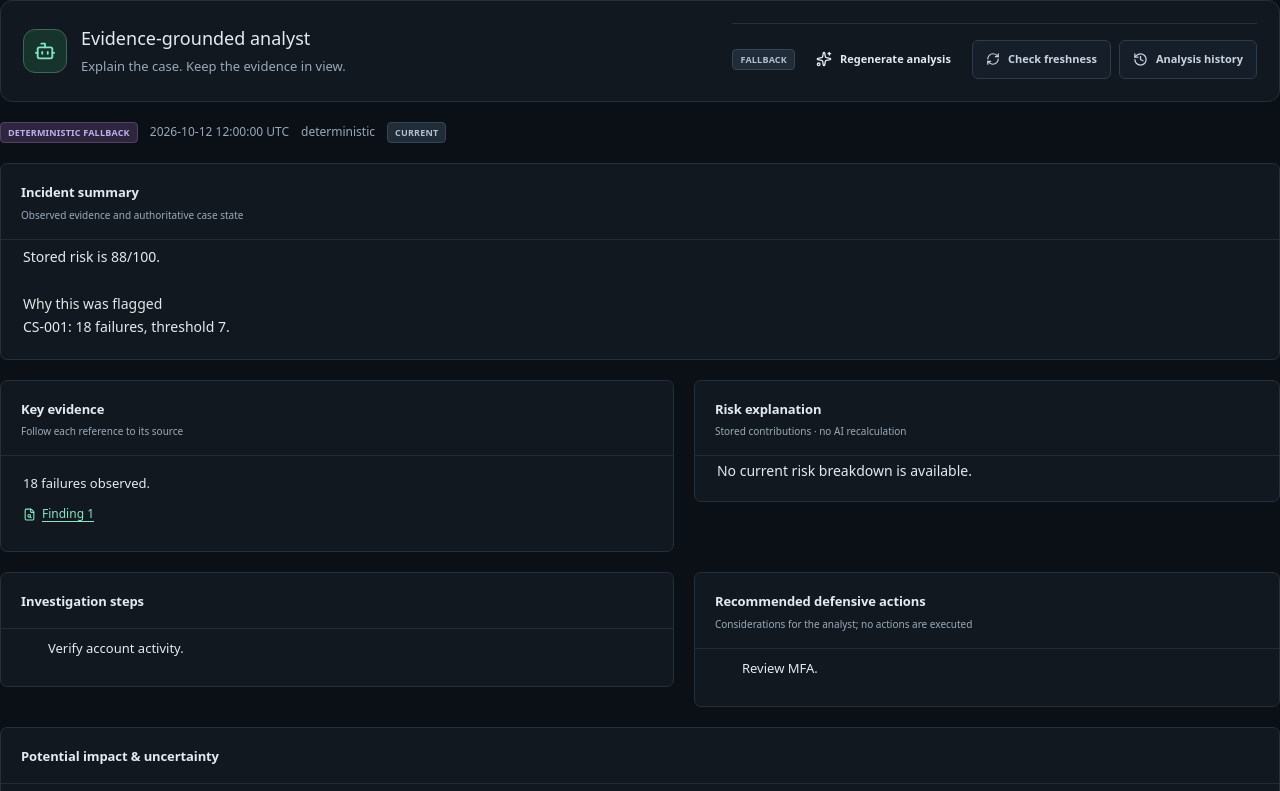
it: displays generation errors without hiding saved evidence
Click the button "Regenerate analysis" at (883, 59), box [803, 41, 964, 78]
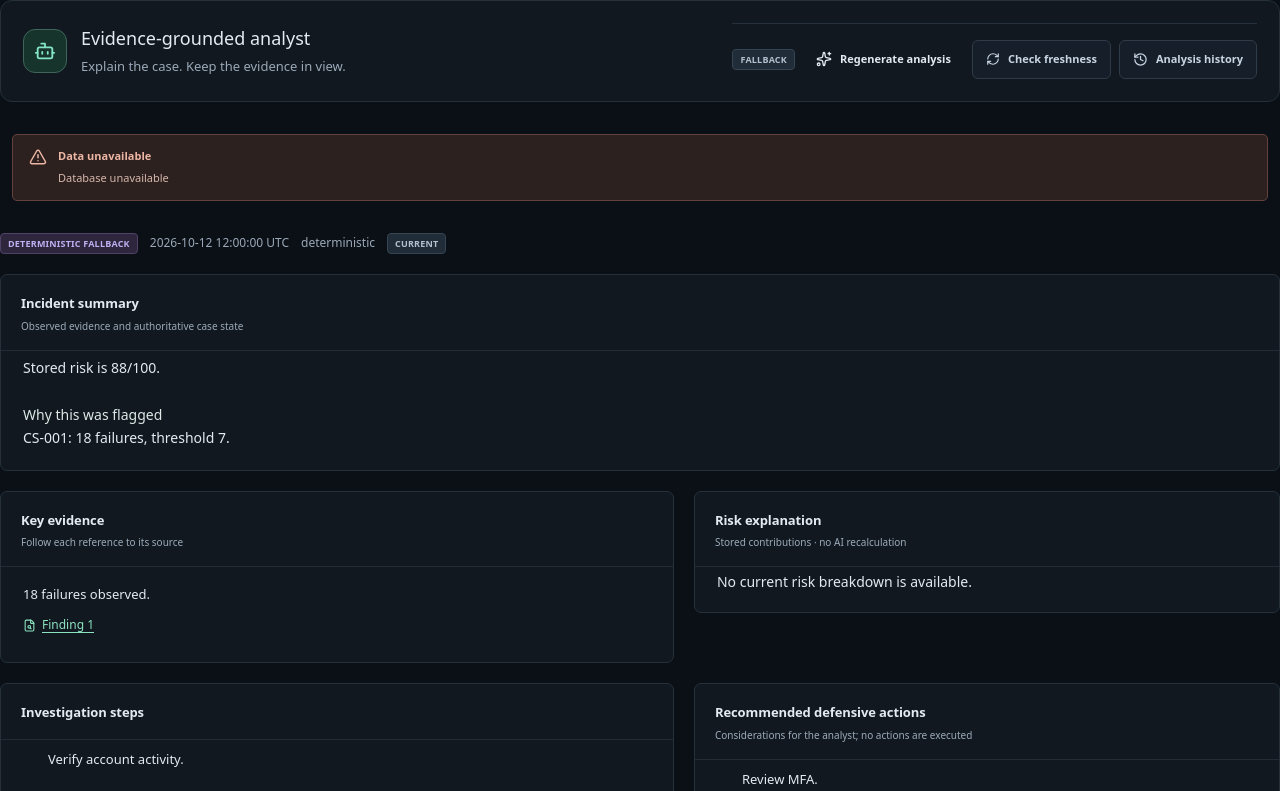
Expected: the text "Stored risk is 88/100." is shown, [23, 358, 160, 377]
Expected: the text "Database unavailable" is shown, [58, 170, 169, 185]
